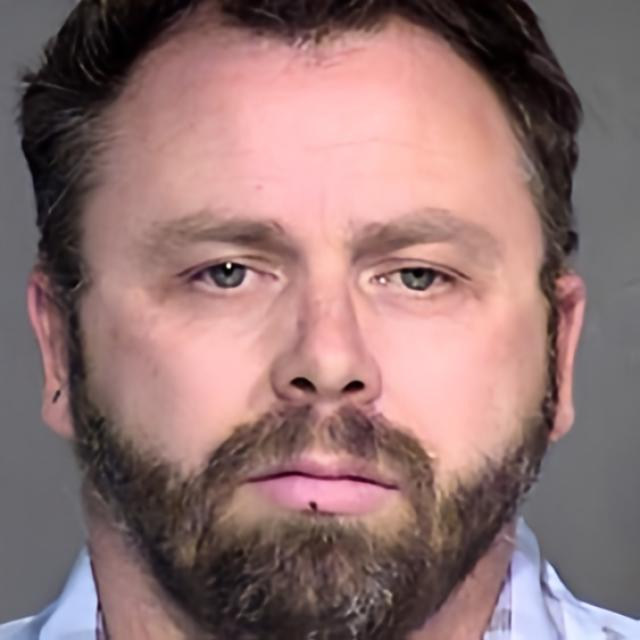sad: (76, 15, 550, 640)
